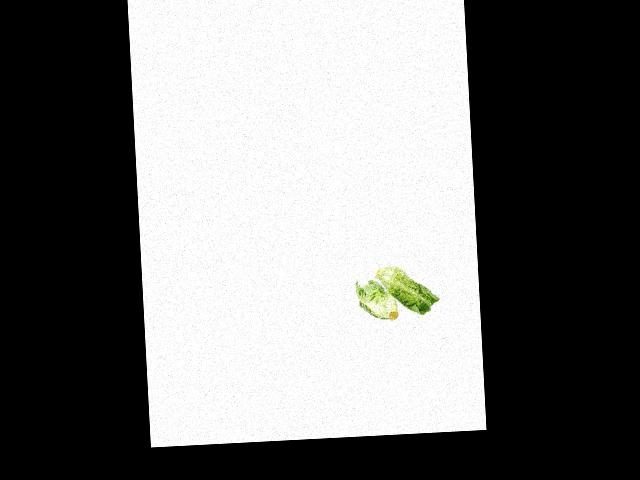lettuce: (387, 221, 496, 327)
